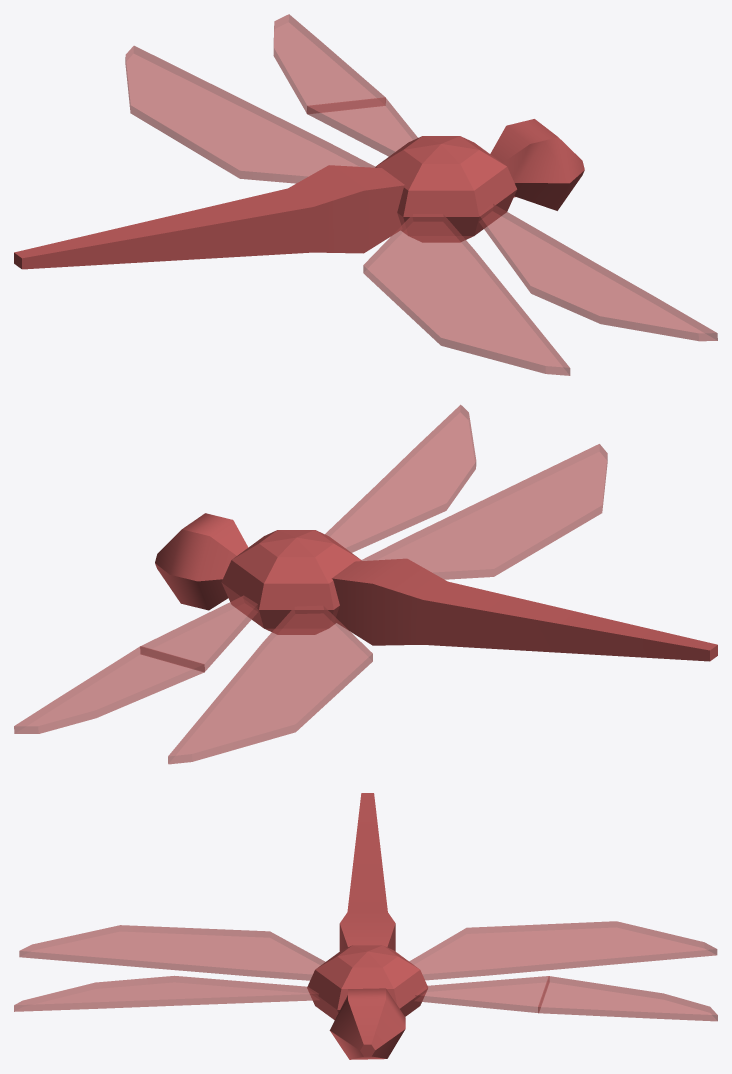
Rendered from Dragonfly_Broken.fbx.
3 renders of one model, top to bottom at view 1: azimuth 30°, elevation 25°; view 2: azimuth 150°, elevation 25°; view 3: azimuth 270°, elevation 25°, orthographic. The views are drawn at different scales.
Visible parts, largest first — view 1: Tail, BackRight, BackLeft, FrontRight, Chest, FrontLeft1, Head, FrontLeft; view 2: Tail, BackLeft, BackRight, Chest, FrontRight, FrontLeft1, Head, FrontLeft; view 3: BackLeft, BackRight, FrontRight, Chest, Tail, FrontLeft1, Head, FrontLeft.
Boxes of the visible parts, x1,y1,x2,y2 form: Tail: [14, 165, 405, 269]; BackRight: [363, 214, 570, 375]; BackLeft: [125, 46, 374, 183]; FrontRight: [479, 204, 717, 341]; Chest: [375, 136, 517, 242]; FrontLeft1: [273, 14, 385, 114]; Head: [490, 119, 584, 210]; FrontLeft: [306, 97, 417, 156]; Tail: [332, 558, 717, 661]; BackLeft: [168, 606, 372, 764]; BackRight: [361, 444, 607, 579]; Chest: [221, 530, 361, 634]; FrontRight: [325, 405, 476, 552]; FrontLeft1: [14, 646, 204, 733]; Head: [155, 513, 248, 610]; FrontLeft: [140, 595, 257, 672]; BackLeft: [409, 921, 717, 980]; BackRight: [19, 925, 325, 980]; FrontRight: [14, 976, 319, 1011]; Chest: [307, 945, 427, 1020]; Tail: [339, 793, 395, 951]; FrontLeft1: [538, 976, 717, 1021]; Head: [329, 988, 405, 1059]; FrontLeft: [414, 976, 549, 1012].
Size of the model in its own units: 8.54 by 1.32 by 11.59.
